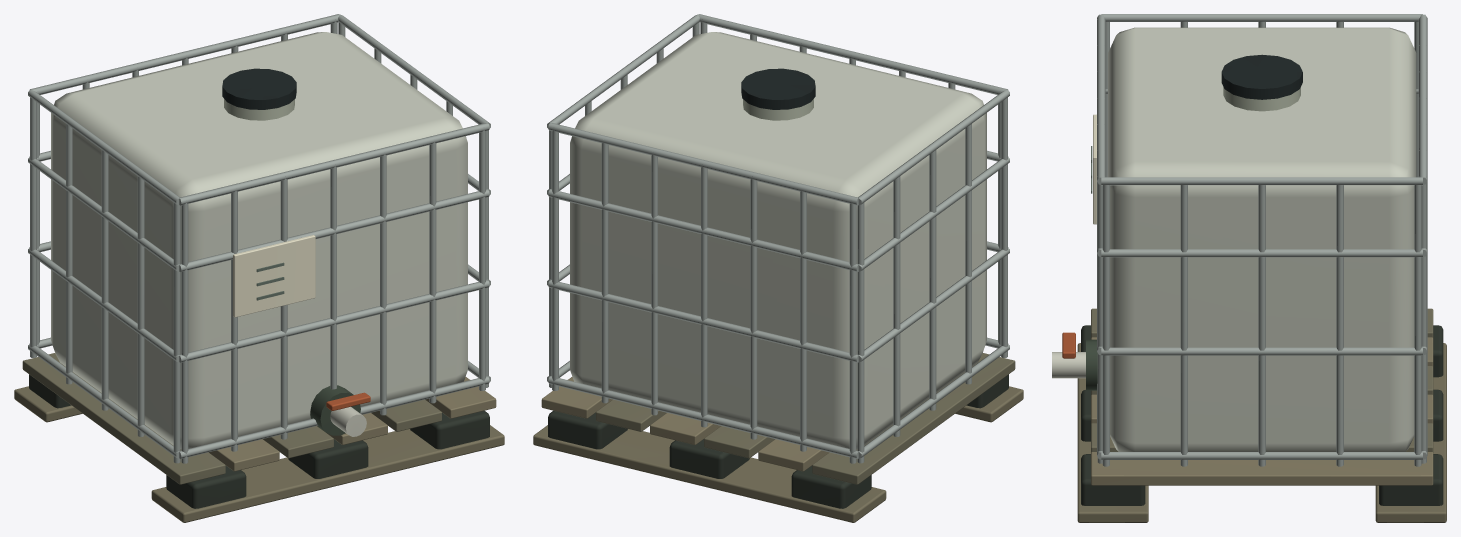
Rendered from water-tank-near.glb.
3 views of the same model, side by side, from view 1: azimuth 30°, elevation 25°; view 2: azimuth 150°, elevation 25°; view 3: azimuth 270°, elevation 25° (orthographic). The views are drawn at different scales.
Parts seen in each view (by area): view 1: Rounded opaque HDPE water vessel, Pallet runner.001, Blank original service-label holder, Pallet deck plank, Water-tank cage horizontal rail.007, Water-tank cage horizontal rail.006, Water-tank cage horizontal rail.003, Screw-on filler lid, Water-tank cage horizontal rail.001, Water-tank cage horizontal rail.005, Pallet support block.001, Welded tank-cage vertical member.007 (+29 smaller); view 2: Rounded opaque HDPE water vessel, Pallet runner, Pallet deck plank, Water-tank cage horizontal rail.006, Water-tank cage horizontal rail.007, Water-tank cage horizontal rail, Water-tank cage horizontal rail.002, Water-tank cage horizontal rail.004, Screw-on filler lid, Pallet support block, Welded tank-cage vertical member, Pallet support block.002 (+26 smaller); view 3: Rounded opaque HDPE water vessel, Pallet deck plank.005, Screw-on filler lid, Water-tank cage end rail.007, Water-tank cage end rail.003, Water-tank cage end rail.005, Water-tank cage end rail.006, Water-tank cage end rail.001, Pallet runner, Welded tank-cage end member.007, Welded tank-cage end member.005, Welded tank-cage end member.006 (+18 smaller).
Part boxes in pixels (x1,y1,x2,y2): Rounded opaque HDPE water vessel: (51, 32, 467, 448); Pallet runner.001: (151, 425, 504, 522); Blank original service-label holder: (233, 235, 315, 317); Pallet deck plank: (22, 353, 225, 484); Water-tank cage horizontal rail.007: (179, 123, 489, 205); Water-tank cage horizontal rail.006: (29, 14, 339, 94); Water-tank cage horizontal rail.003: (179, 280, 489, 362); Screw-on filler lid: (222, 68, 296, 109); Water-tank cage horizontal rail.001: (179, 376, 489, 458); Water-tank cage horizontal rail.005: (179, 189, 489, 272); Pallet support block.001: (166, 465, 246, 508); Welded tank-cage vertical member.007: (181, 203, 188, 463); Rounded opaque HDPE water vessel: (570, 32, 986, 448); Pallet runner: (533, 425, 886, 522); Pallet deck plank: (812, 353, 1015, 484); Water-tank cage horizontal rail.006: (548, 123, 858, 205); Water-tank cage horizontal rail.007: (698, 14, 1008, 94); Water-tank cage horizontal rail: (548, 376, 858, 458); Water-tank cage horizontal rail.002: (548, 280, 858, 362); Water-tank cage horizontal rail.004: (548, 189, 858, 272); Screw-on filler lid: (741, 68, 815, 109); Pallet support block: (791, 465, 871, 508); Welded tank-cage vertical member: (849, 203, 856, 463); Pallet support block.002: (669, 439, 749, 478); Rounded opaque HDPE water vessel: (1108, 27, 1416, 451); Pallet deck plank.005: (1091, 452, 1433, 485); Screw-on filler lid: (1221, 54, 1302, 99); Water-tank cage end rail.007: (1101, 177, 1422, 185); Water-tank cage end rail.003: (1101, 347, 1422, 355); Water-tank cage end rail.005: (1101, 249, 1422, 257); Water-tank cage end rail.006: (1101, 14, 1422, 21); Water-tank cage end rail.001: (1101, 452, 1422, 459); Pallet runner: (1375, 343, 1446, 522); Welded tank-cage end member.007: (1258, 185, 1265, 466); Welded tank-cage end member.005: (1414, 185, 1421, 466); Welded tank-cage end member.006: (1336, 185, 1343, 466).
Bounding box in the file's own units: 1.19 × 1.2 × 1.17.
